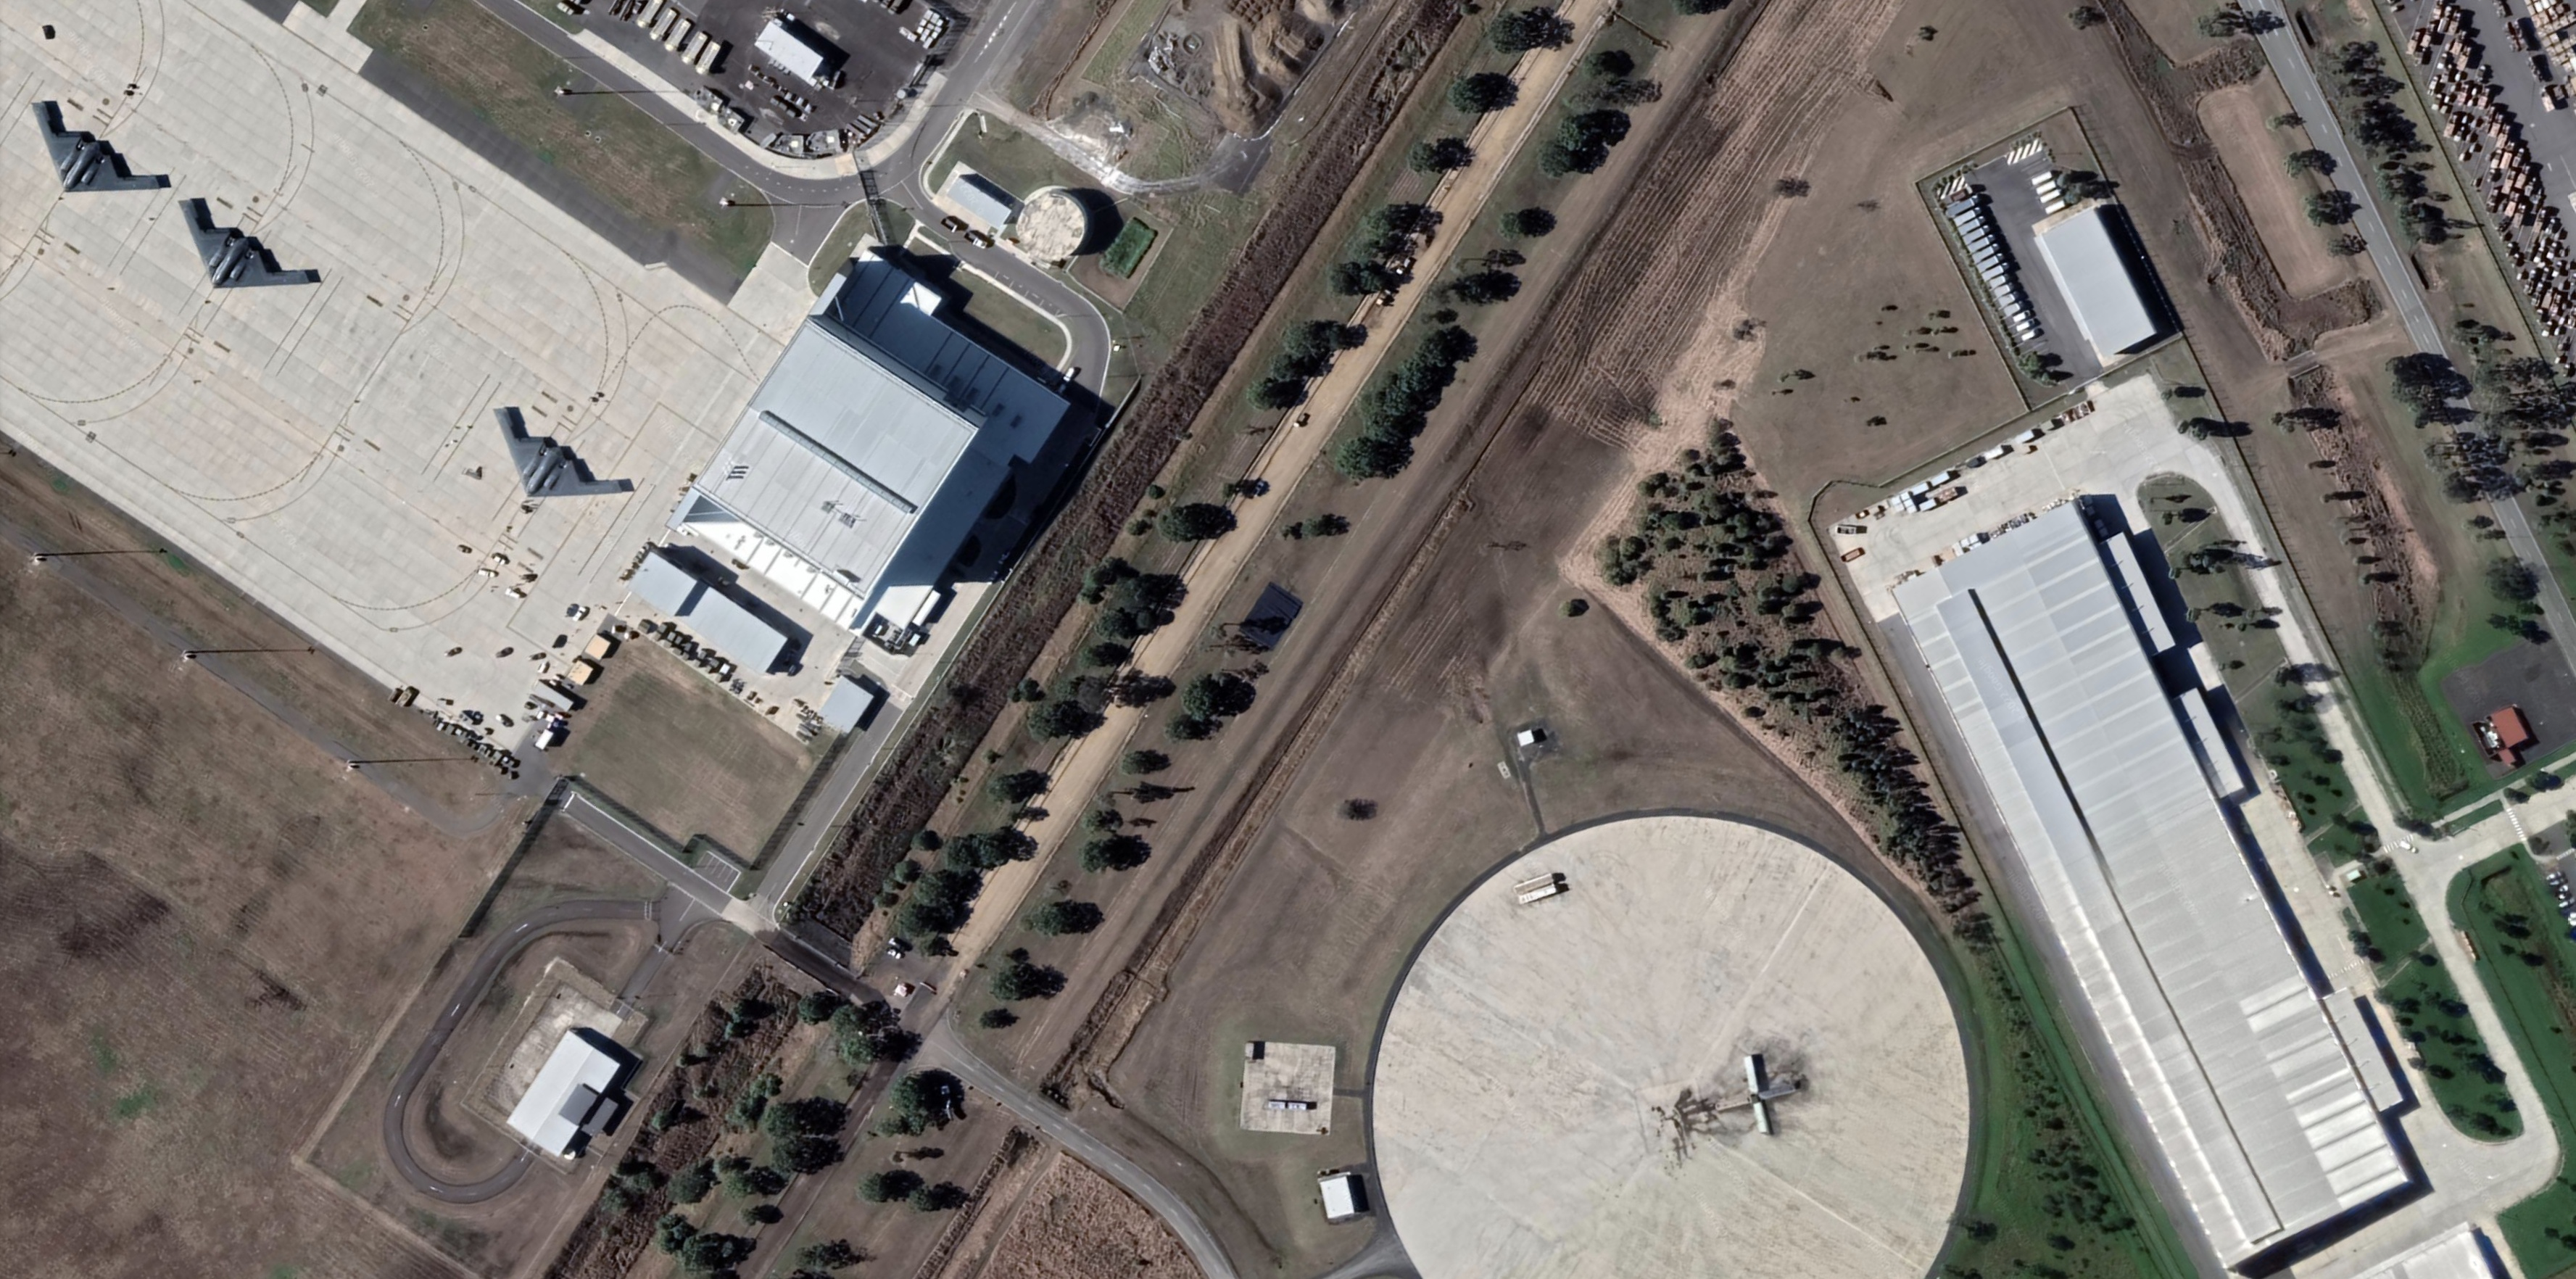B2: (177, 199, 310, 289), (493, 408, 623, 498), (31, 102, 161, 192)
